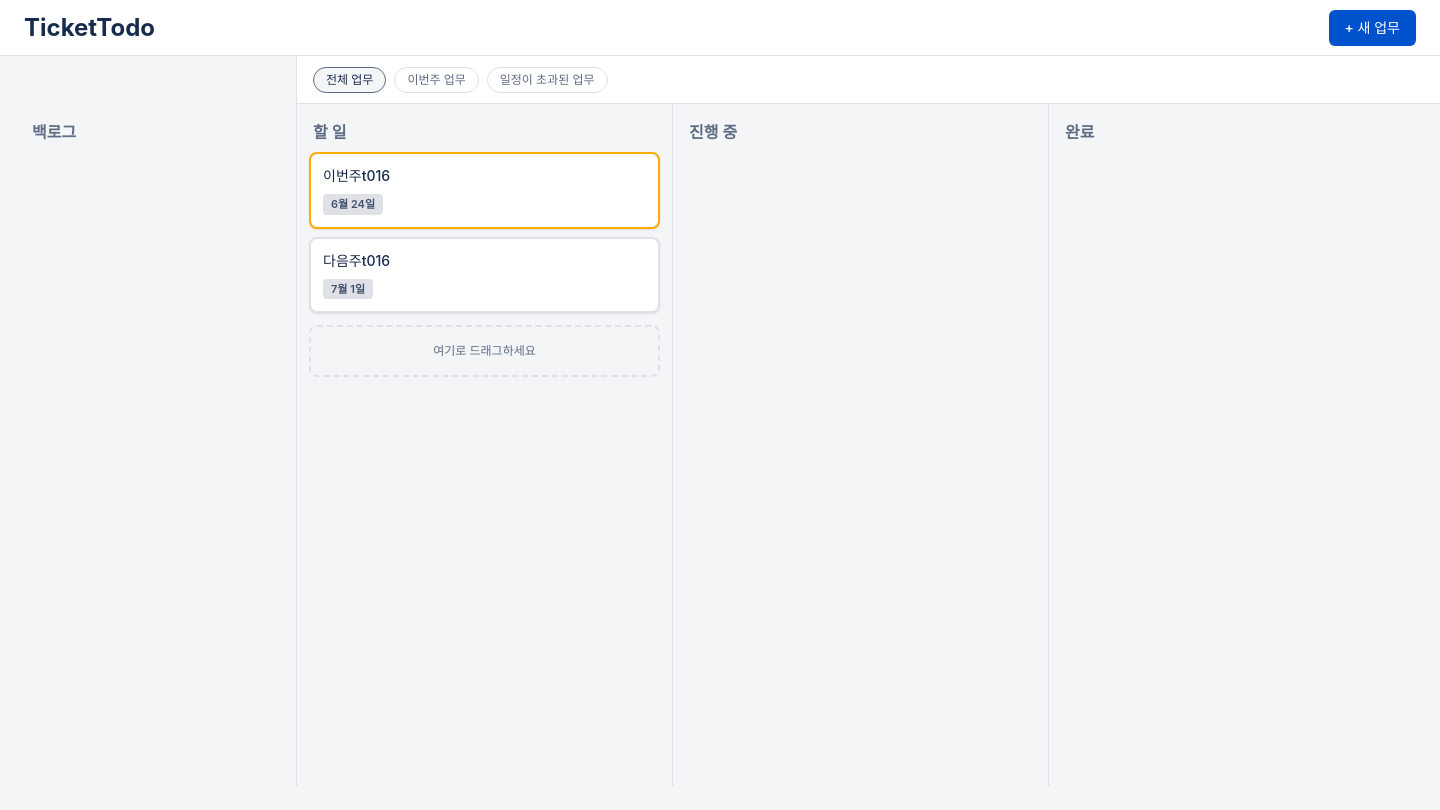
Test: 시나리오 D — 이번주 업무 필터 › TC-INT-016: 필터 버튼 재클릭 → 전체 보드 복원
The width and height of the screenshot is (1440, 810).
expect the text "이번주t016" is shown: met, box [323,167,390,184]
expect the text "다음주t016" is shown: met, box [323,252,390,268]
Note: 필터 활성 → 이번주만 표시
Click the button "이번주 업무": (437, 80) [394,66,479,92]
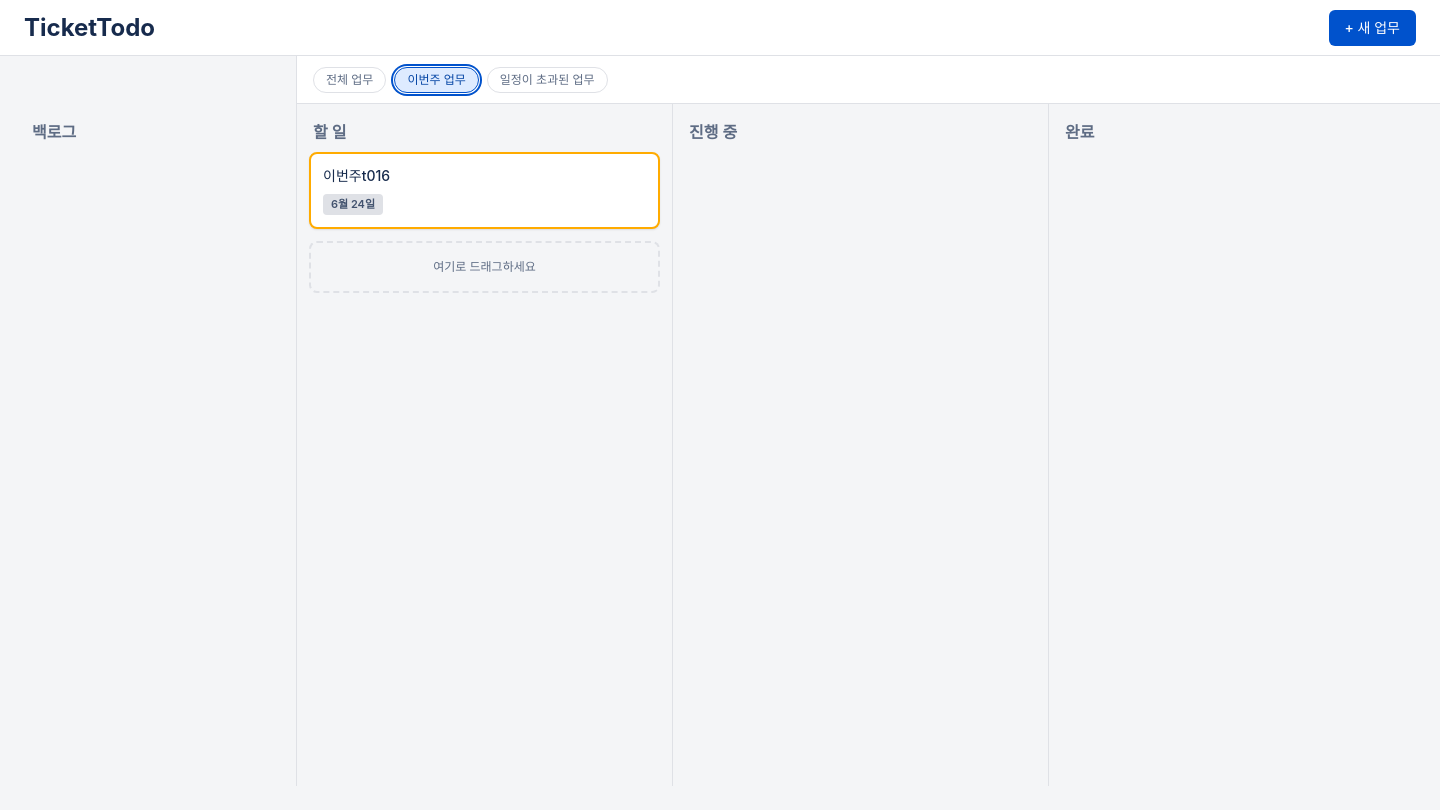
expect the text "이번주t016" is shown: met, box [323,167,390,184]
expect the list item "다음주t016" is gone: met
Note: 필터 비활성 → 전체 복원
Click the button "이번주 업무": (437, 80) [394,66,479,92]
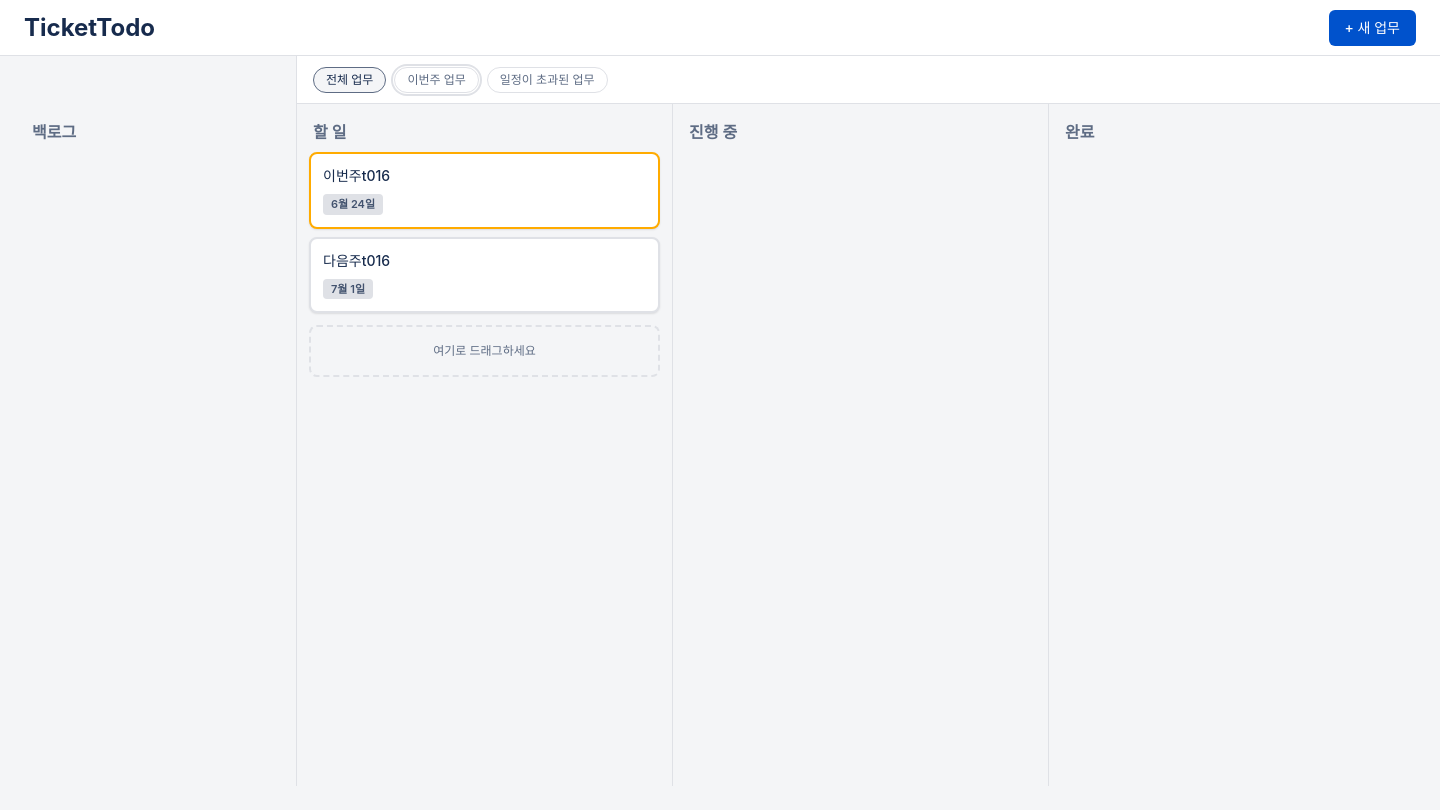
expect the text "이번주t016" is shown: met, box [323,167,390,184]
expect the text "다음주t016" is shown: met, box [323,252,390,268]
